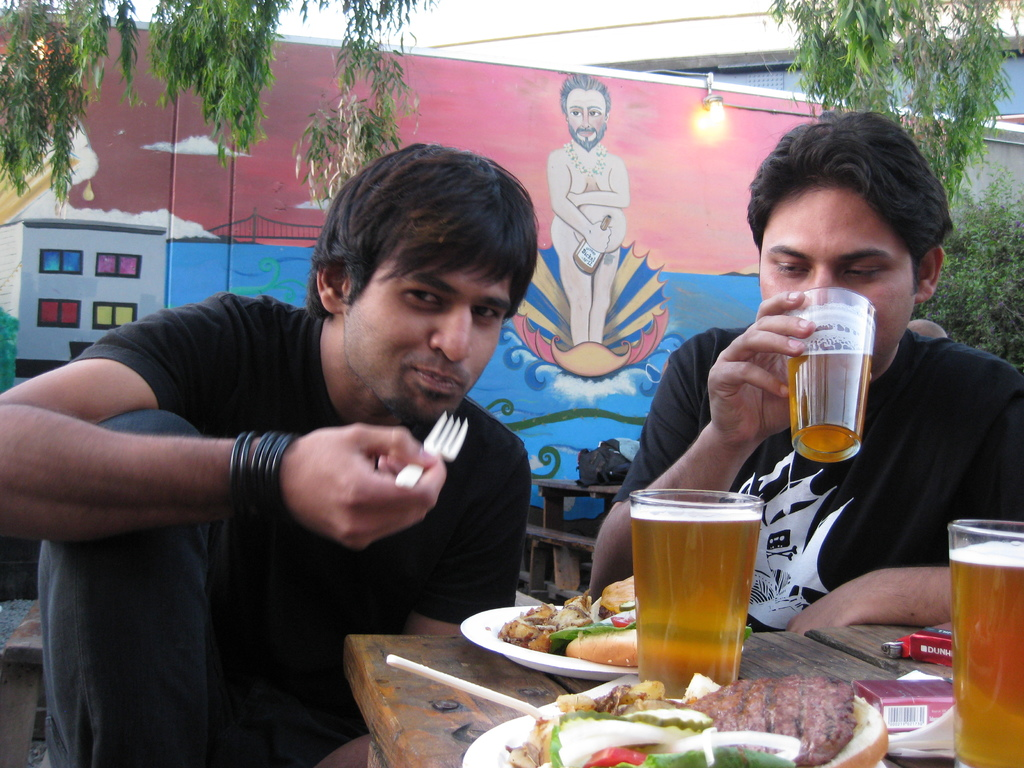Beer: (626, 497, 760, 696), (948, 538, 1023, 767), (787, 350, 862, 462)
